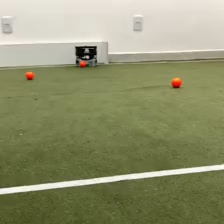ball: (171, 76, 183, 89), (24, 69, 34, 80), (78, 59, 86, 67)
goal: (1, 40, 110, 66)
robot: (74, 44, 99, 68)
